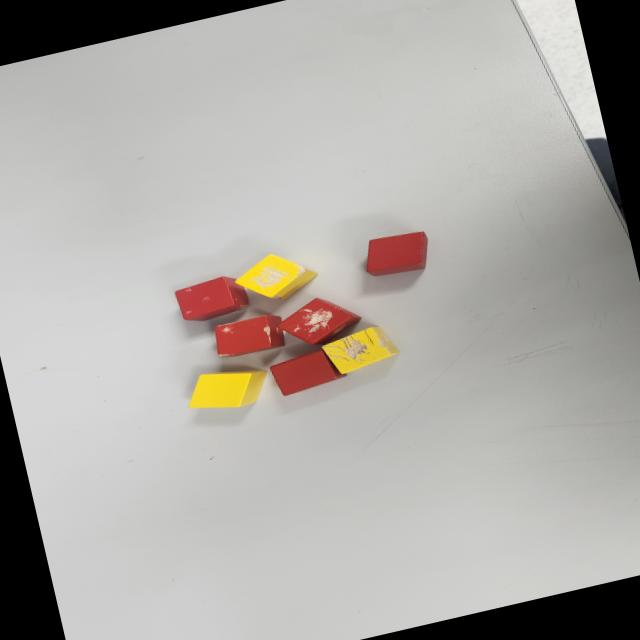broken: (230, 243, 322, 310), (274, 288, 366, 352), (318, 321, 402, 377), (173, 270, 252, 326), (360, 226, 436, 282), (210, 309, 288, 362)
red: (268, 344, 348, 397), (359, 227, 435, 280)
yellow: (180, 360, 272, 418)
